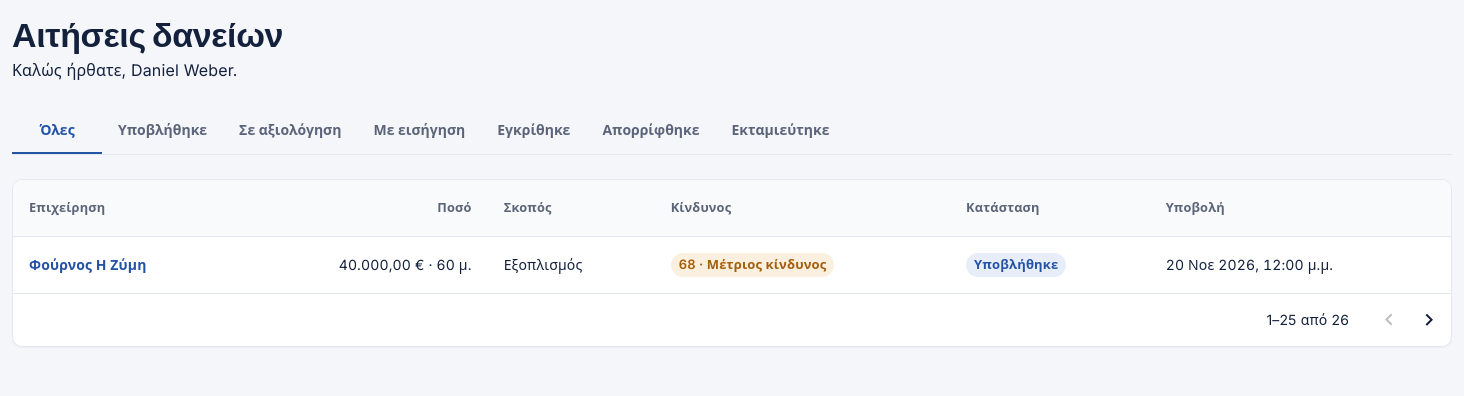
Test case: LoanQueuePage paging › asks the bank for the next page of applications
Expected: the link "Φούρνος Η Ζύμη" is shown, 29,256 -> 146,273
Click the button named "next page". click: click(1429, 320)
box: 1409,300 -> 1449,340
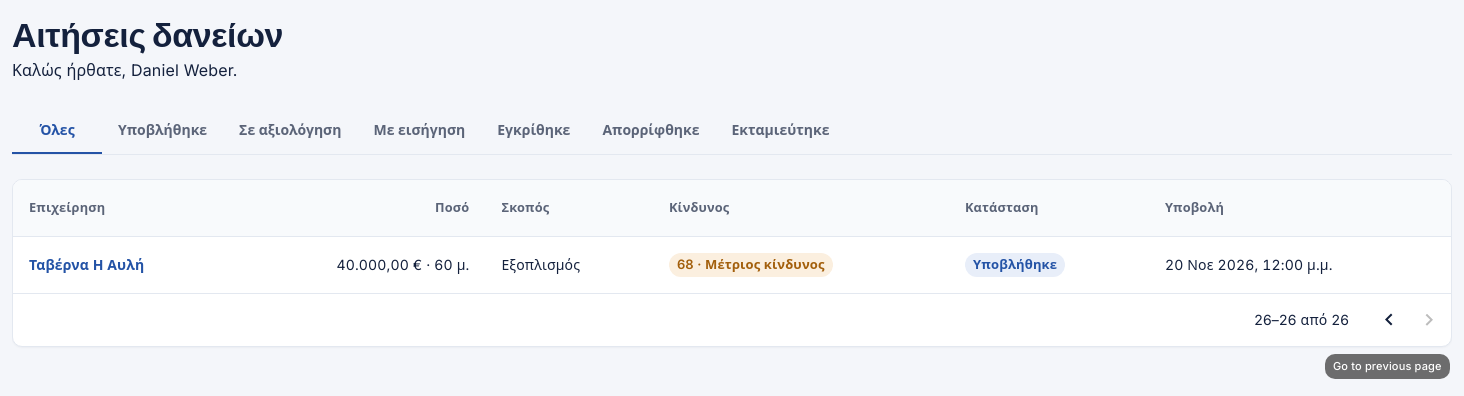
Now the link "Ταβέρνα Η Αυλή" is shown, box 29,256 -> 144,273
